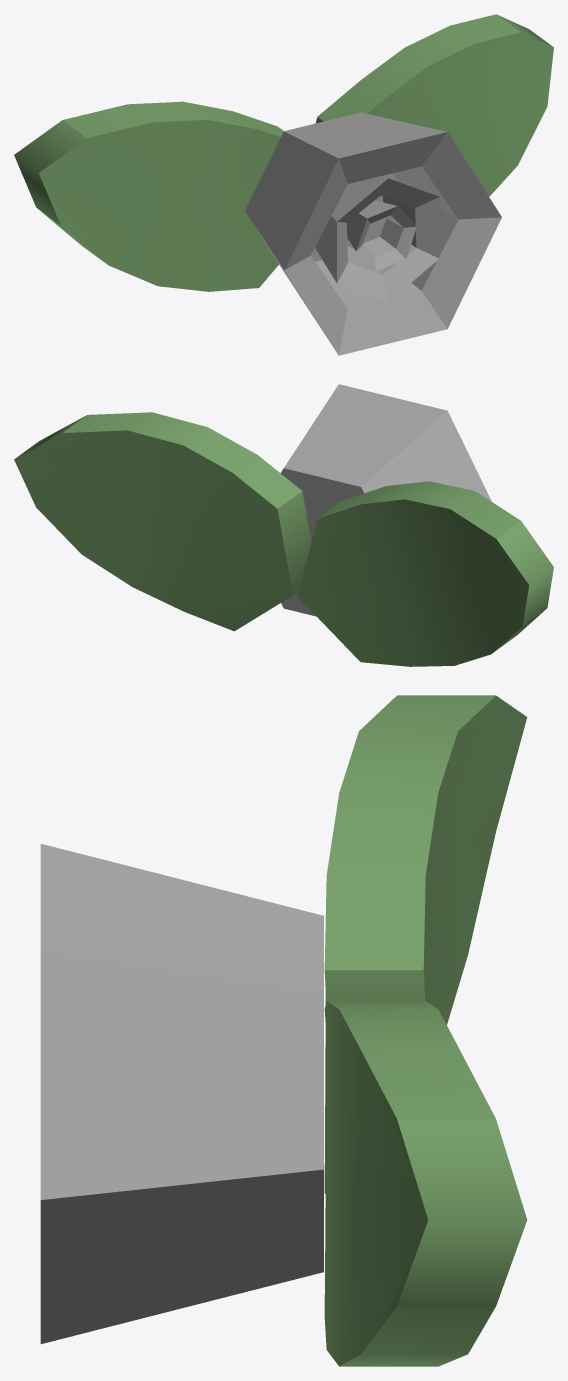
Rendered from rose.fbx.
3 renders of one model, top to bottom at view 1: azimuth 30°, elevation 25°; view 2: azimuth 150°, elevation 25°; view 3: azimuth 270°, elevation 25°, orthographic. The views are drawn at different scales.
Parts seen in each view (by area): view 1: leaves_geo, rose_geo; view 2: leaves_geo, rose_geo; view 3: rose_geo, leaves_geo.
Boxes of the visible parts, box(x1,y1,x2,y2) form: leaves_geo: box(14, 14, 553, 291); rose_geo: box(245, 112, 501, 355); leaves_geo: box(14, 412, 553, 666); rose_geo: box(280, 384, 491, 616); rose_geo: box(40, 844, 323, 1343); leaves_geo: box(324, 695, 527, 1366).
Size of the model in its own units: 11.12 by 4.15 by 4.55.
